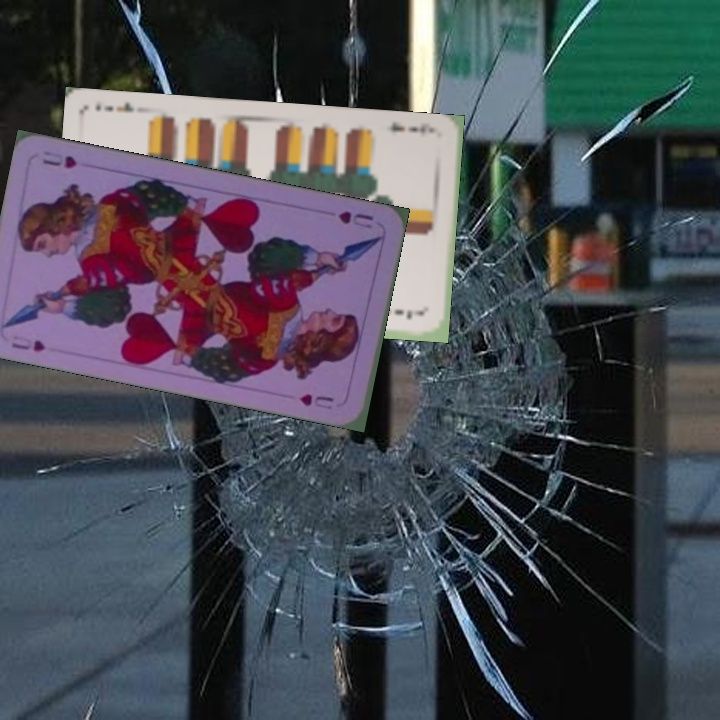E7: (386, 118, 437, 137)
HU: (334, 207, 376, 231), (7, 331, 48, 355)
